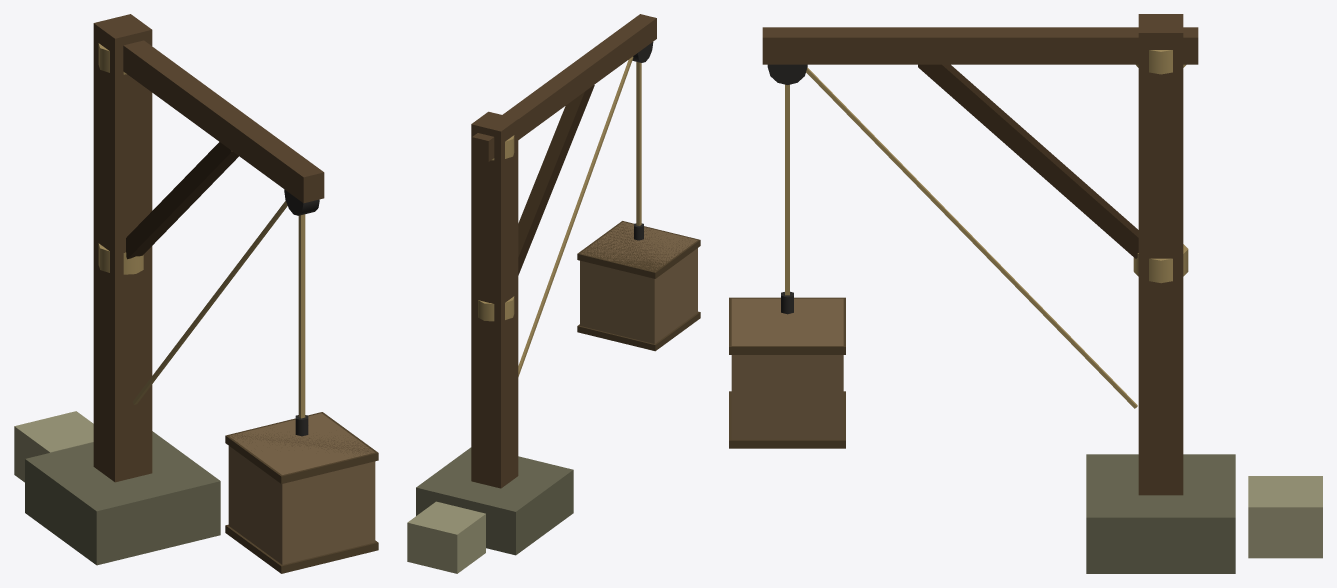
The model's file is jt_crane.glb.
The picture shows the model from 3 angles, left to right: view 1: azimuth 30°, elevation 25°; view 2: azimuth 150°, elevation 25°; view 3: azimuth 270°, elevation 25°; orthographic projection. The views are drawn at different scales.
Parts seen in each view (by area): view 1: jt_crane; view 2: jt_crane; view 3: jt_crane.
Boxes of the visible parts, x1,y1,x2,y2 form: jt_crane: [14, 14, 378, 573]; jt_crane: [407, 14, 700, 573]; jt_crane: [729, 14, 1322, 573].
Bounding box in the file's own units: 1.2 × 4.6 × 4.77.
